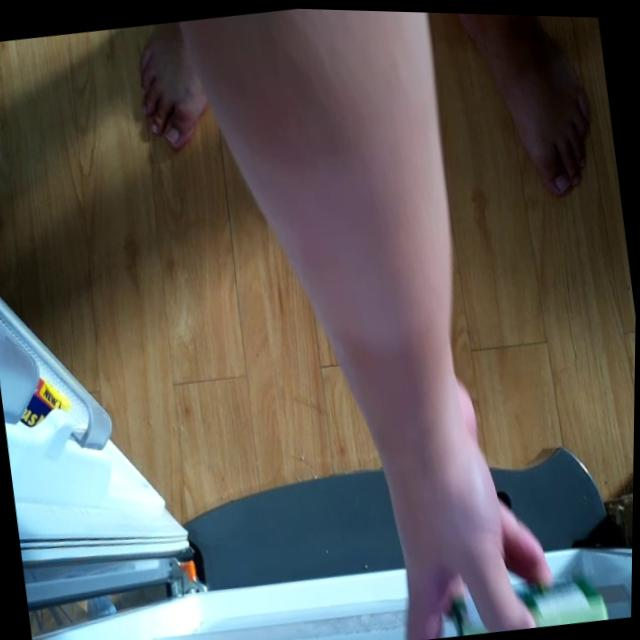milk: (485, 553, 610, 632)
